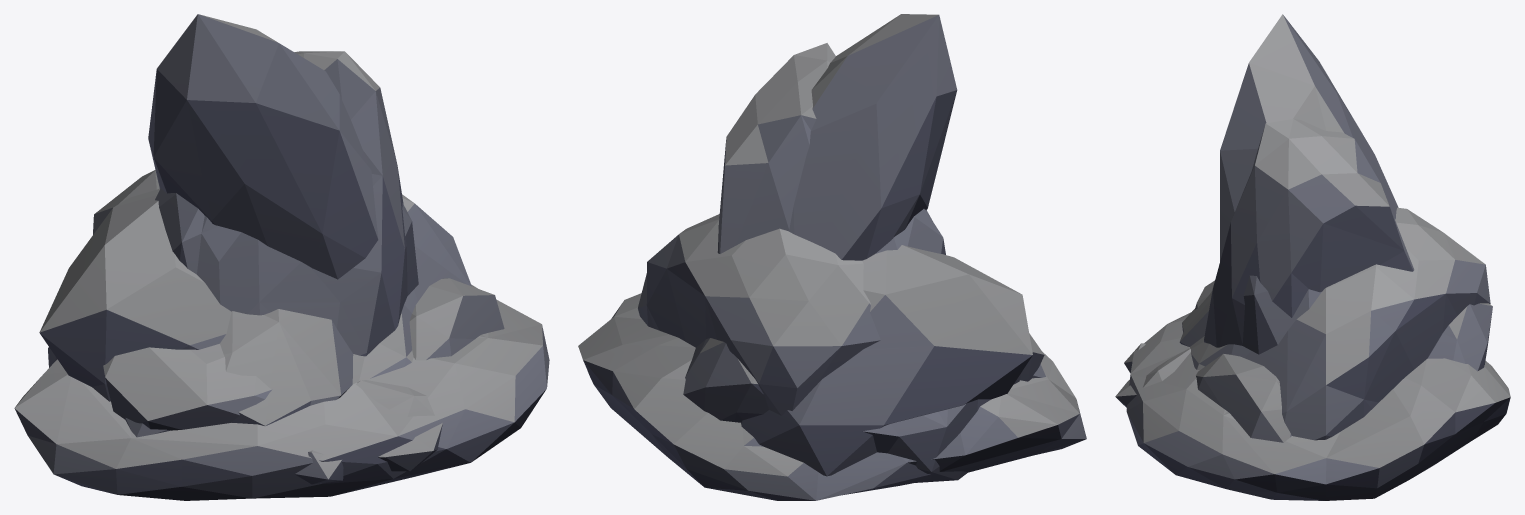
Rendered from rocks.glb.
3 renders of one model, left to right at view 1: azimuth 30°, elevation 25°; view 2: azimuth 150°, elevation 25°; view 3: azimuth 270°, elevation 25°, orthographic. The views are drawn at different scales.
Parts seen in each view (by area): view 1: Rock_C, Rock_E, Rock_F, Rock_B, Rock_A, Rock_D, Pebbles; view 2: Rock_F, Rock_C, Rock_E, Rock_A, Rock_B, Rock_D; view 3: Rock_C, Rock_A, Rock_B, Rock_E, Rock_F, Rock_D.
Boxes of the visible parts, <box> form: Rock_C: <box>14,284,549,500</box>; Rock_E: <box>125,14,418,437</box>; Rock_F: <box>39,188,504,471</box>; Rock_B: <box>155,51,407,356</box>; Rock_A: <box>93,170,471,430</box>; Rock_D: <box>48,309,353,425</box>; Pebbles: <box>295,450,343,484</box>; Rock_F: <box>741,245,1032,476</box>; Rock_C: <box>578,293,1086,500</box>; Rock_E: <box>788,14,1045,378</box>; Rock_A: <box>638,214,1044,415</box>; Rock_B: <box>717,43,945,254</box>; Rock_D: <box>683,338,990,482</box>; Rock_C: <box>1126,312,1510,500</box>; Rock_A: <box>1190,207,1490,440</box>; Rock_B: <box>1204,119,1414,347</box>; Rock_E: <box>1220,14,1398,354</box>; Rock_F: <box>1115,348,1291,442</box>; Rock_D: <box>1179,291,1492,371</box>.
Bounding box in the file's own units: 2.51 × 2.26 × 2.1.
